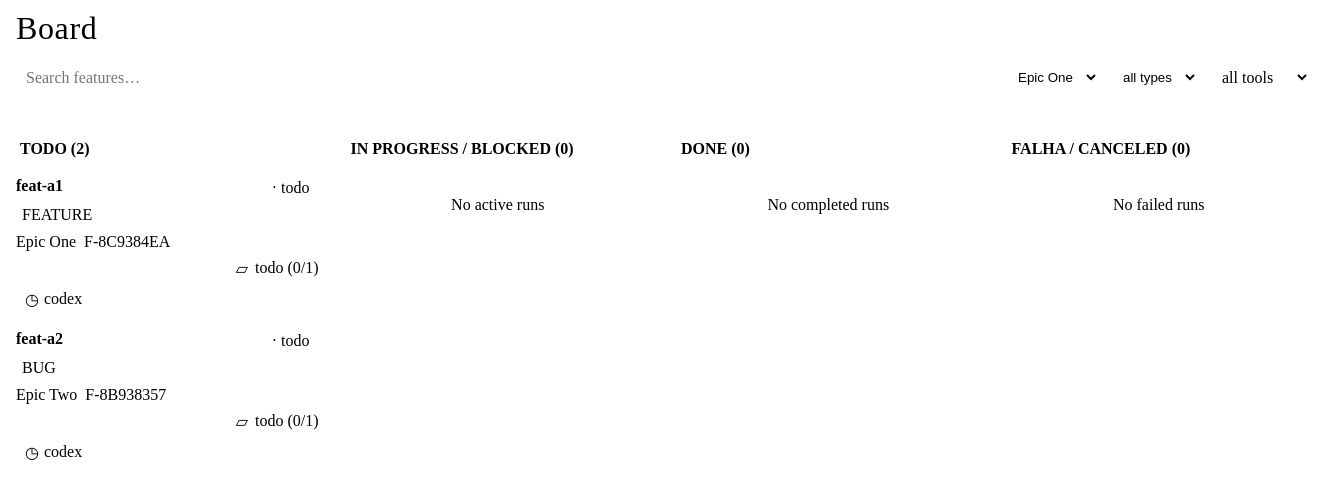
BoardPage Project scope › composes Epic and type filters as an AND predicate on top of the Project scope
Select "Epic One" in the 1st dropdown: (1052, 78) [1004,62,1099,93]
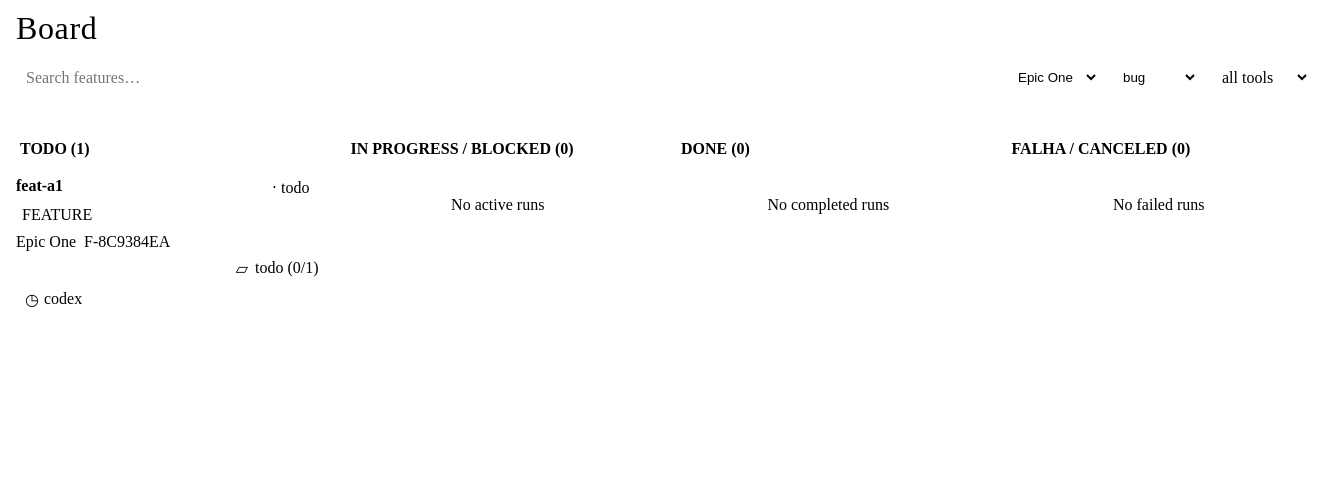
Expected: the text "feat-a1" is shown, [16,177,63,194]
Expected: the text "feat-a2" is gone
Select "bug" in the 2nd dropdown: (1154, 78) [1109,62,1198,93]
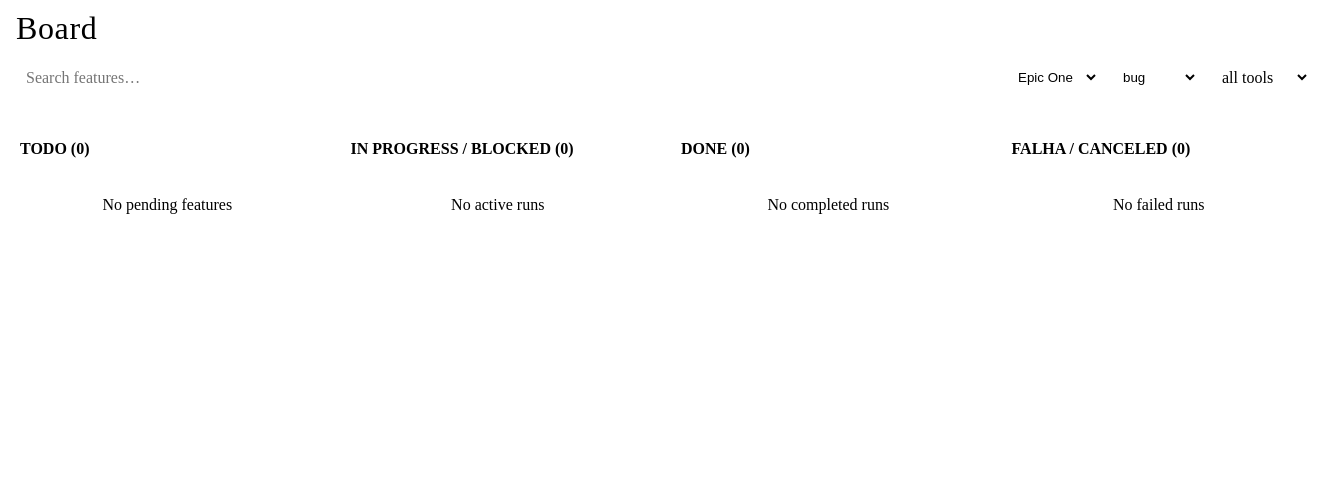
Expected: the text "No pending features" is shown, [102,196,232,213]
Expected: the text "feat-a1" is gone
